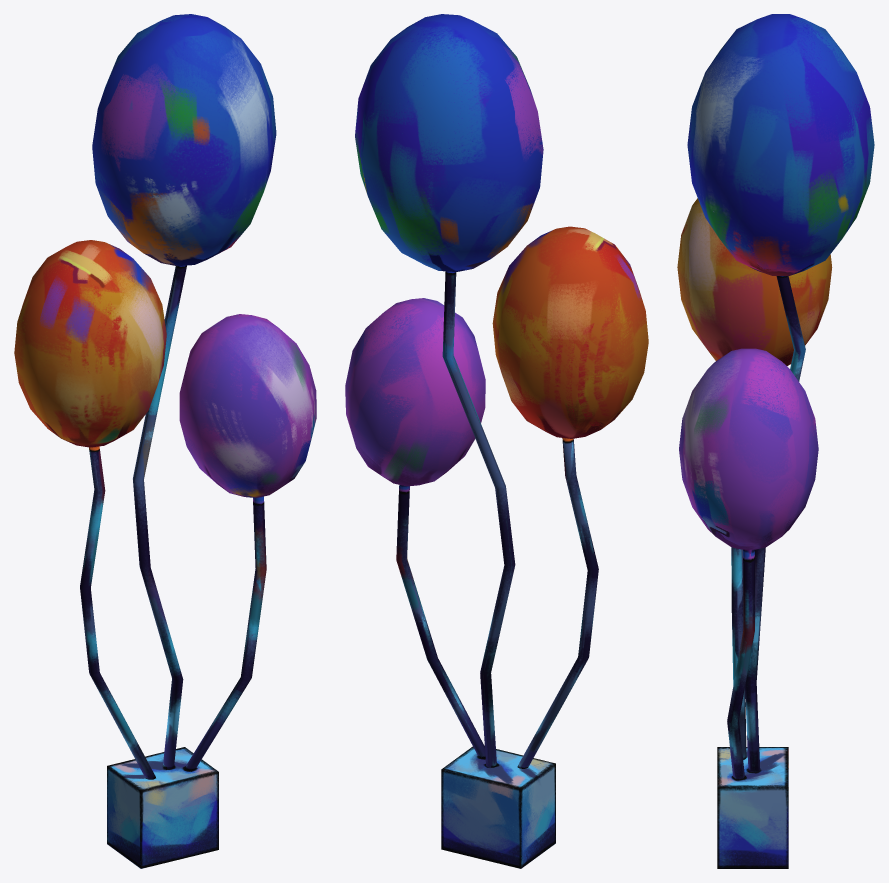
The model's file is small Balloons.glb.
The picture shows the model from 3 angles, left to right: view 1: azimuth 30°, elevation 25°; view 2: azimuth 150°, elevation 25°; view 3: azimuth 270°, elevation 25°; orthographic projection. The views are drawn at different scales.
Parts seen in each view (by area): view 1: Balloons2_3vers; view 2: Balloons2_3vers; view 3: Balloons2_3vers.
Boxes of the visible parts, left/top/right/bottom form: Balloons2_3vers: left=14, top=14, right=316, bottom=868; Balloons2_3vers: left=345, top=14, right=648, bottom=868; Balloons2_3vers: left=677, top=14, right=874, bottom=868.
Size of the model in its own units: 3.3 by 9.15 by 1.93.
Materials: 1 (1 with a texture image).
